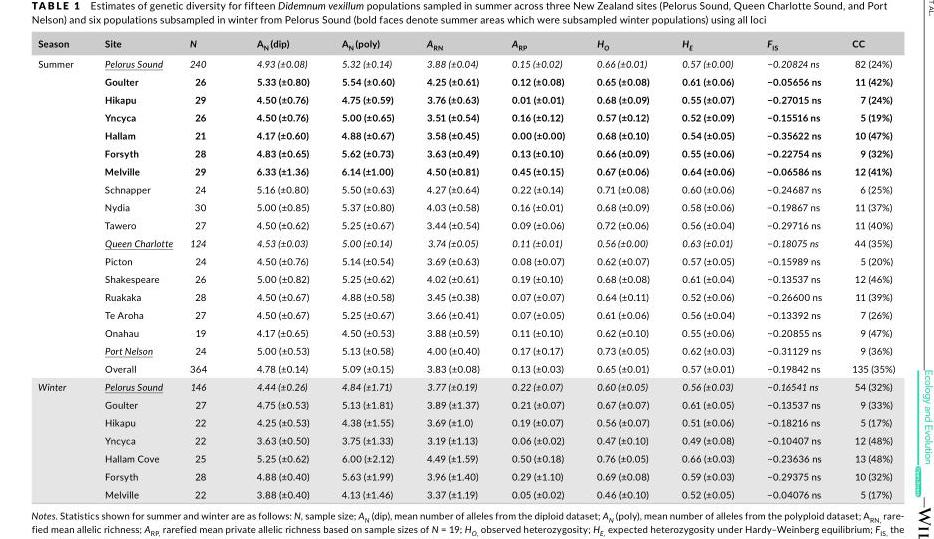table: (38, 36, 895, 499)
table column: (231, 36, 325, 499), (89, 36, 181, 499), (750, 36, 837, 499), (495, 36, 581, 499), (325, 36, 410, 499), (410, 36, 495, 499), (665, 36, 750, 499), (581, 36, 665, 499), (837, 36, 895, 499), (38, 36, 89, 499), (181, 36, 231, 499)
table column header: (38, 36, 895, 54)
table row: (38, 36, 895, 54), (38, 54, 895, 72), (38, 89, 895, 107), (38, 107, 895, 125), (38, 125, 895, 143), (38, 143, 895, 161), (38, 161, 895, 179), (38, 179, 895, 197), (38, 197, 895, 215), (38, 215, 895, 233), (38, 233, 895, 251), (38, 251, 895, 269), (38, 269, 895, 287), (38, 287, 895, 305), (38, 305, 895, 323), (38, 323, 895, 341), (38, 341, 895, 359), (38, 359, 895, 377), (38, 394, 895, 412), (38, 412, 895, 430), (38, 430, 895, 448), (38, 448, 895, 466), (38, 466, 895, 484), (38, 72, 895, 89), (38, 377, 895, 394), (38, 484, 895, 499)
table spanning cell: (38, 54, 89, 377), (38, 377, 89, 499)
